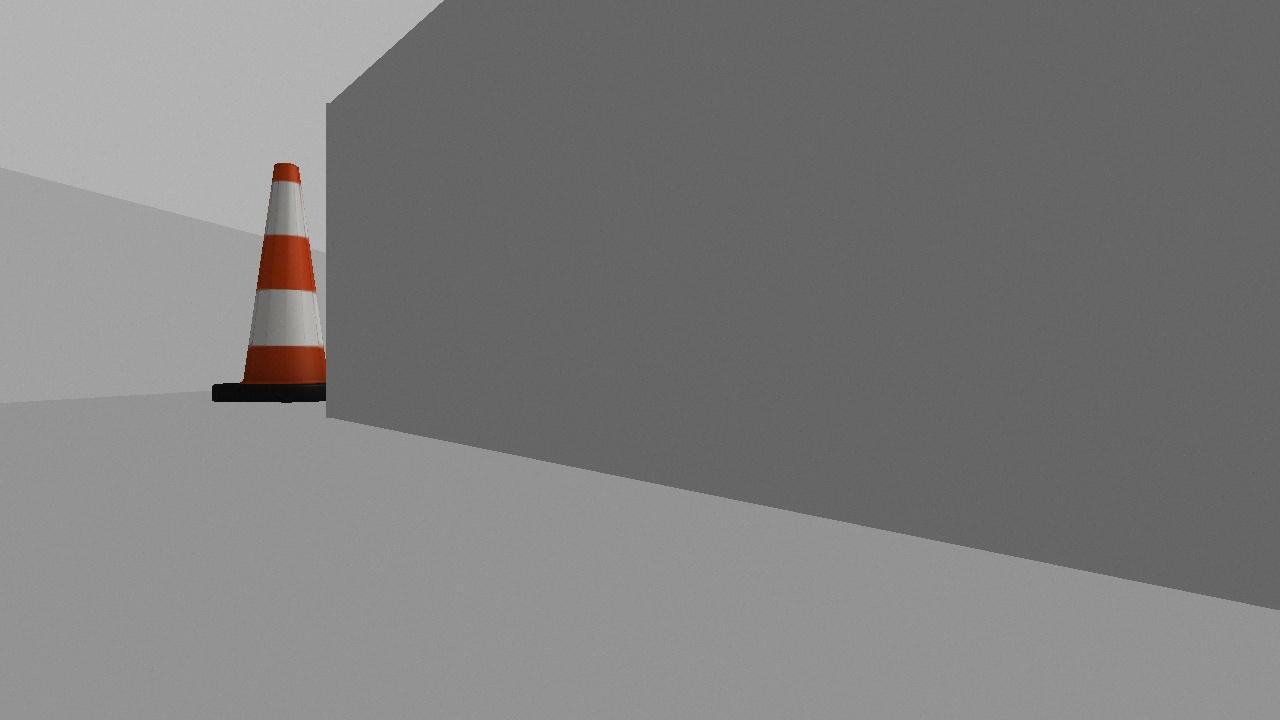barricade: (212, 149, 353, 405)
